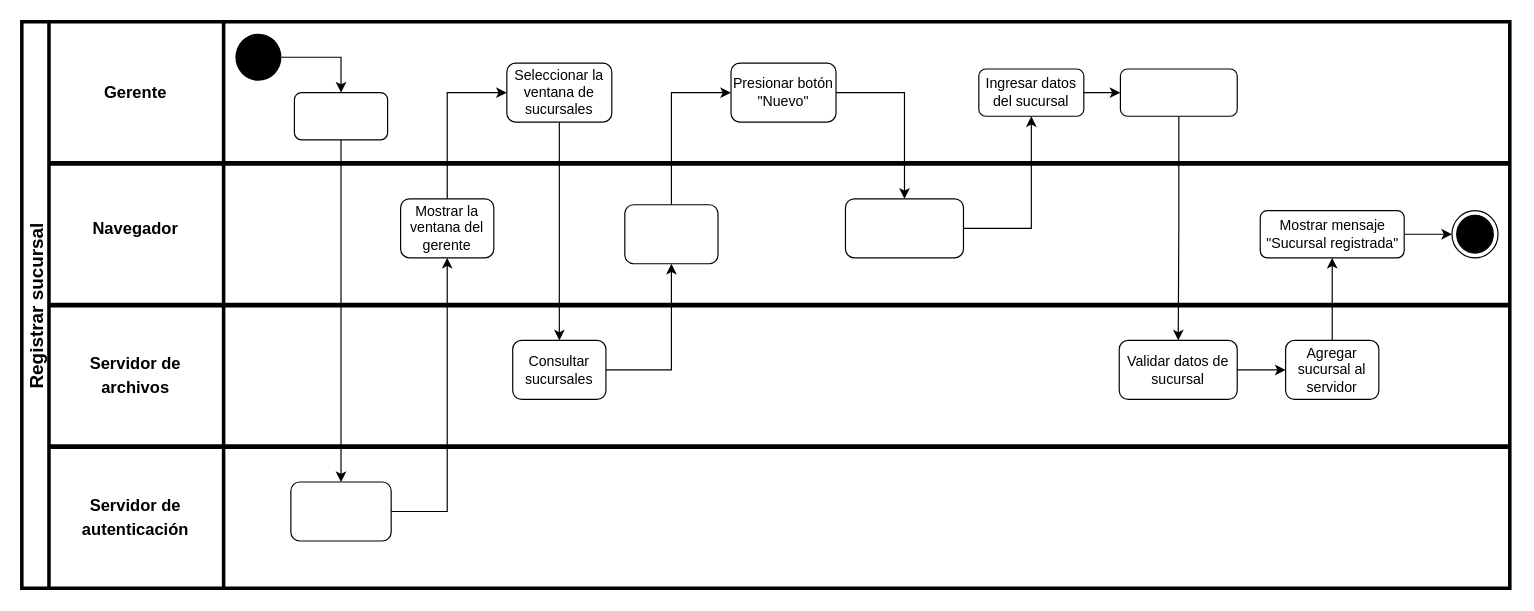
Some shapes in this 1534 by 611 pixel diagram are drawn without their labels. Here are the shapes that lost their labels. From the top down, the centre of each, then its label:
the point at 1178,92: Presionar botón "Guardar"
the point at 340,115: Ingresar su usuario
the point at 671,234: Mostrar lista de sucursales
the point at 903,228: Mostrar ventana Nueva sucursal
the point at 340,511: Autenticar los permisos de usuario
